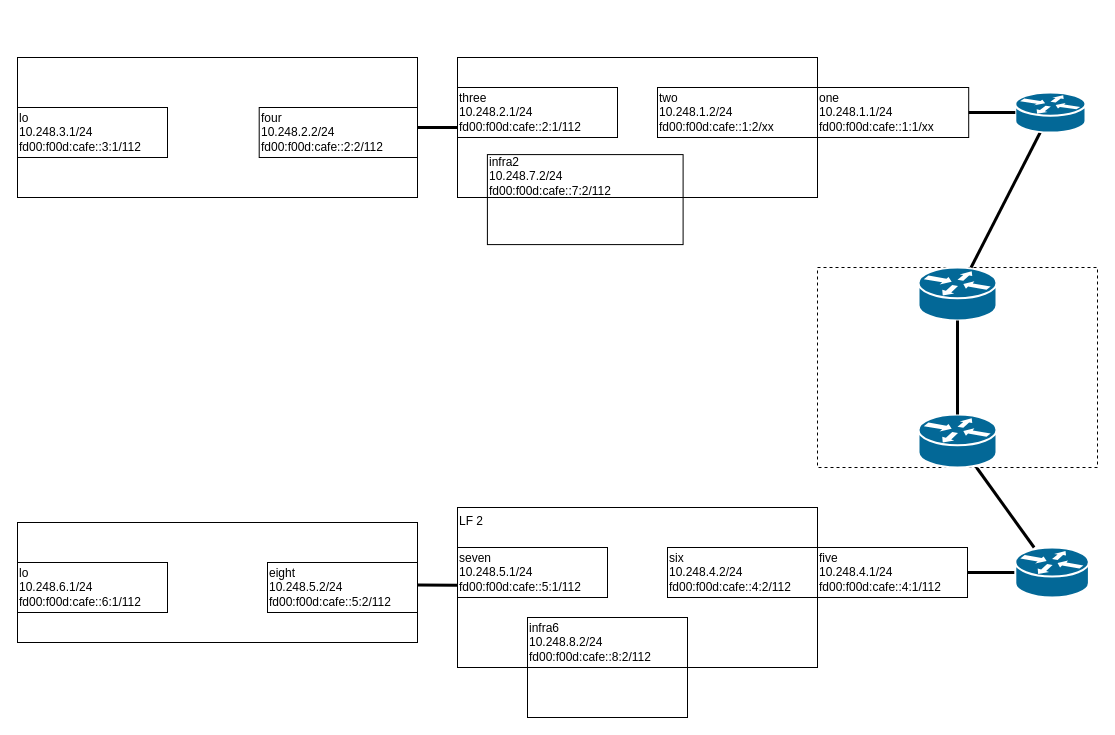
The diagram is 1115 pixels wide and 735 high, and some of its shapes have lost their labels. The shapes that lost their labels are listed below. From the top down, each one's box as (x1, y1, x2, y2) in pixels, then its label:
(16, 56, 418, 198): end host 1
(456, 56, 818, 198): LF 1
(486, 196, 683, 245): infra1 10.248.7.1/24 fd00:f00d:cafe::7:1/112
(816, 266, 1098, 468): AS 1-ff00:0:110
(16, 522, 418, 642): end host 2
(526, 666, 688, 718): infra5 10.248.8.1/24 fd00:f00d:cafe::8:1/112
